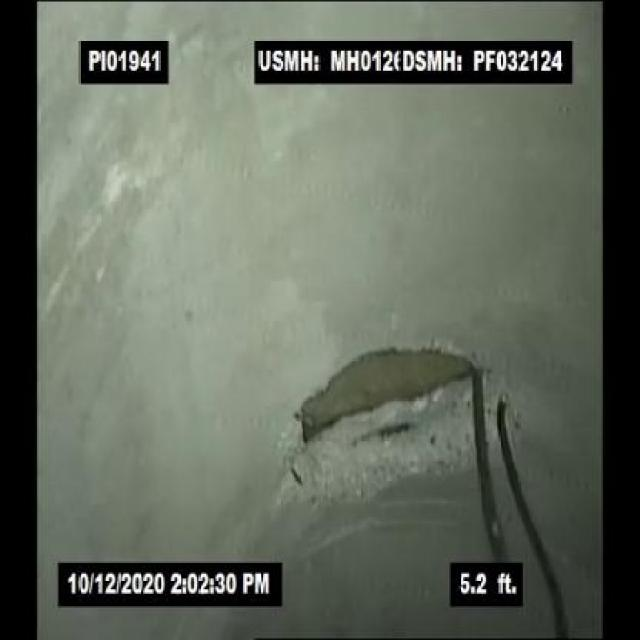Hole: (270, 334, 522, 495)
